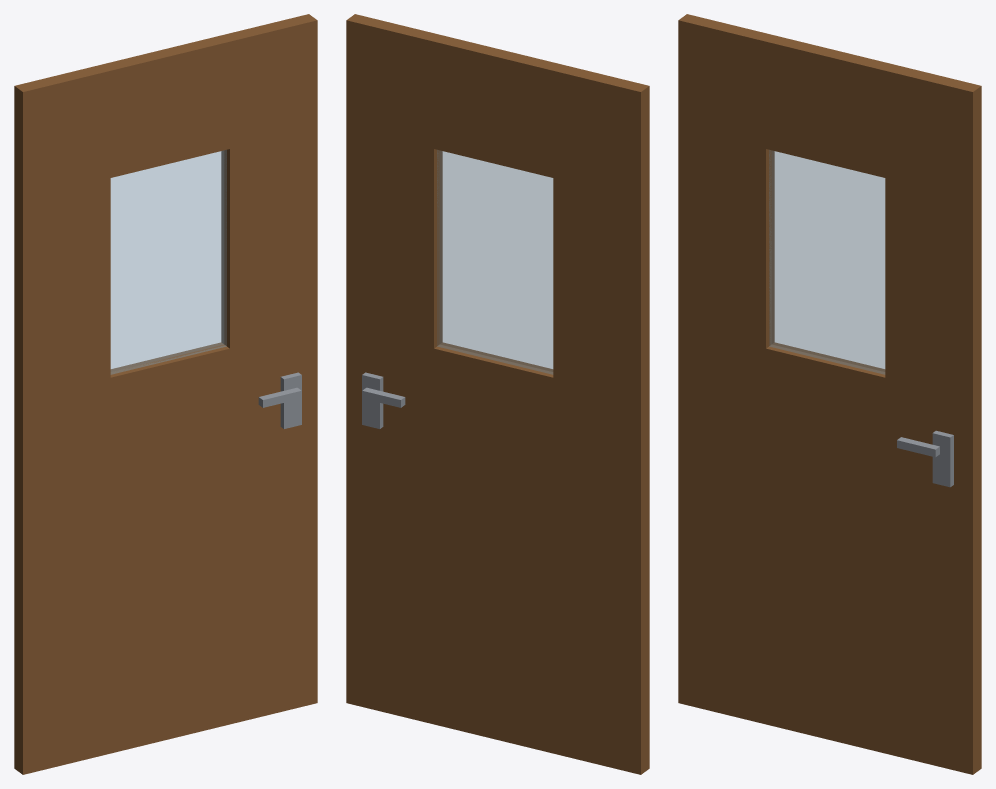
File: SM_Door_classroom_100x220.fbx
The picture shows the model from 3 angles, left to right: view 1: azimuth 30°, elevation 25°; view 2: azimuth 150°, elevation 25°; view 3: azimuth 330°, elevation 25°; orthographic projection.
Parts seen in each view (by area): view 1: SM_Door_classroom_100x220; view 2: SM_Door_classroom_100x220; view 3: SM_Door_classroom_100x220.
Boxes of the visible parts, box(x1,y1,x2,y2) form: SM_Door_classroom_100x220: box(14, 14, 317, 774); SM_Door_classroom_100x220: box(346, 14, 649, 774); SM_Door_classroom_100x220: box(678, 14, 981, 774).
Bounding box in the file's own units: 0.988 × 2.19 × 0.175.
